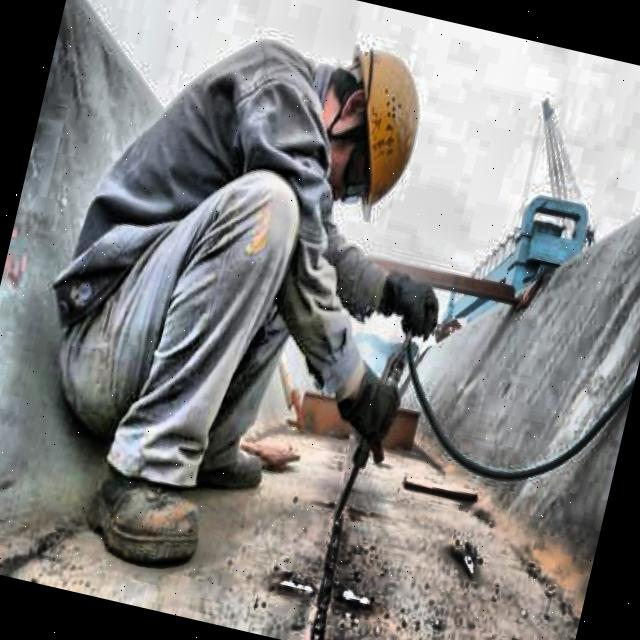helmet: (300, 26, 450, 228)
